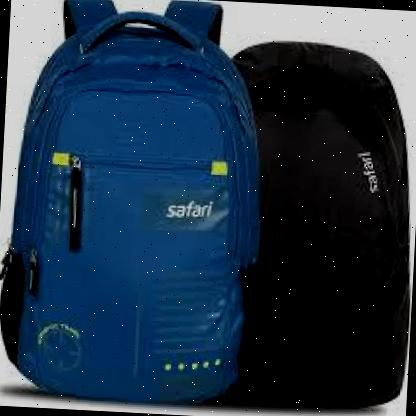bag: (0, 0, 280, 410), (197, 24, 416, 410)
